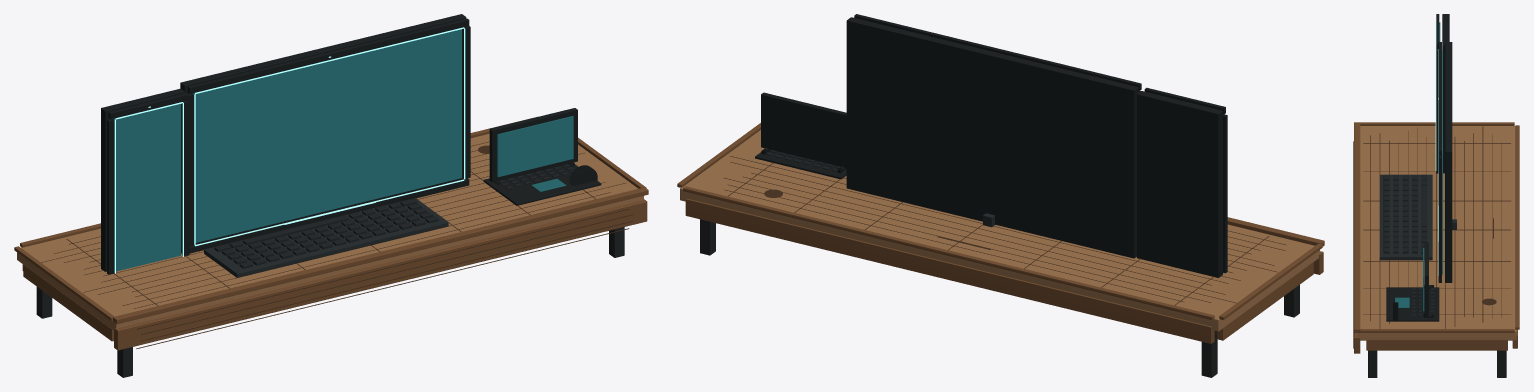
Rendered from kraitos-open-desk.v4.glb.
The picture shows the model from 3 angles, left to right: view 1: azimuth 30°, elevation 25°; view 2: azimuth 150°, elevation 25°; view 3: azimuth 270°, elevation 25°; orthographic projection. The views are drawn at different scales.
Visible parts, largest first — view 1: main_monitor_screen_recess, solid_wood_desktop, wood_front_apron, vertical_monitor_screen_recess, wood_front_lip, laptop_screen_recess, keyboard_deck, main_monitor_rear_shell, main_monitor_top_bezel, main_monitor_bottom_bezel, laptop_base, laptop_screen_frame (+15 smaller); view 2: main_monitor_rear_shell, solid_wood_desktop, vertical_monitor_rear_shell, wood_rear_apron, laptop_screen_frame, wood_rear_lip, main_monitor_top_bezel, wood_left_apron, laptop_base, wood_left_lip, vertical_monitor_left_bezel, wood_front_lip (+9 smaller); view 3: solid_wood_desktop, keyboard_deck, main_monitor_rear_shell, wood_right_apron, wood_front_lip, laptop_base, wood_rear_lip, wood_right_lip, wood_left_lip, vertical_monitor_rear_shell, main_monitor_right_bezel, main_monitor_top_bezel (+17 smaller).
Boxes of the visible parts, box(x1,y1,x2,y2) form: main_monitor_screen_recess: box(193, 27, 461, 242); solid_wood_desktop: box(17, 133, 643, 330); wood_front_apron: box(114, 199, 647, 350); vertical_monitor_screen_recess: box(114, 102, 180, 271); wood_front_lip: box(113, 187, 648, 324); laptop_screen_recess: box(497, 116, 573, 177); keyboard_deck: box(204, 198, 448, 277); main_monitor_rear_shell: box(180, 14, 466, 244); main_monitor_top_bezel: box(188, 18, 469, 93); main_monitor_bottom_bezel: box(189, 178, 469, 253); laptop_base: box(483, 164, 601, 205); laptop_screen_frame: box(489, 108, 577, 182); main_monitor_rear_shell: box(846, 17, 1138, 258); solid_wood_desktop: box(680, 130, 1319, 331); vertical_monitor_rear_shell: box(1137, 91, 1222, 277); wood_rear_apron: box(685, 198, 1214, 343); laptop_screen_frame: box(761, 92, 846, 167); wood_rear_lip: box(683, 186, 1214, 320); main_monitor_top_bezel: box(854, 14, 1141, 90); wood_left_apron: box(1217, 262, 1313, 340); laptop_base: box(755, 151, 846, 179); wood_left_lip: box(1219, 243, 1322, 319); vertical_monitor_left_bezel: box(1223, 114, 1227, 273); wood_front_lip: box(1227, 217, 1324, 246); solid_wood_desktop: box(1358, 126, 1516, 340); keyboard_deck: box(1379, 174, 1432, 260); main_monitor_rear_shell: box(1445, 42, 1452, 282); wood_right_apron: box(1366, 340, 1507, 350); wood_front_lip: box(1354, 122, 1360, 332); laptop_base: box(1386, 287, 1439, 321); wood_rear_lip: box(1515, 125, 1519, 329); wood_right_lip: box(1359, 329, 1514, 332); wood_left_lip: box(1360, 122, 1514, 125); vertical_monitor_rear_shell: box(1442, 14, 1449, 173); main_monitor_right_bezel: box(1438, 155, 1441, 277); main_monitor_top_bezel: box(1438, 42, 1441, 155).
Size of what is drawn, in the model's own units: 9.48 by 3.9 by 3.19.
